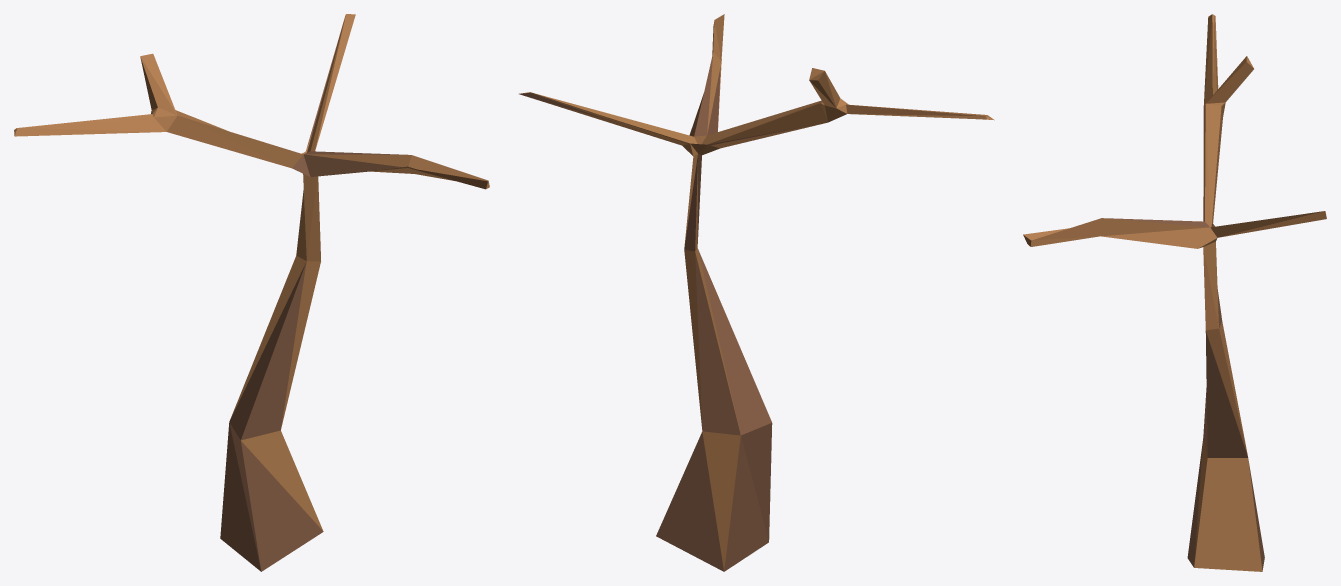
File: baretree.fbx
The picture shows the model from 3 angles, left to right: view 1: azimuth 30°, elevation 25°; view 2: azimuth 150°, elevation 25°; view 3: azimuth 270°, elevation 25°; orthographic projection. The views are drawn at different scales.
Visible parts, largest first — view 1: Cube; view 2: Cube; view 3: Cube.
Part boxes in pixels (box(x1,y1,x2,y2)): Cube: box(14, 14, 489, 571); Cube: box(519, 14, 994, 571); Cube: box(1023, 14, 1326, 571).
Size of the model in its own units: 1046 by 1261 by 749.
